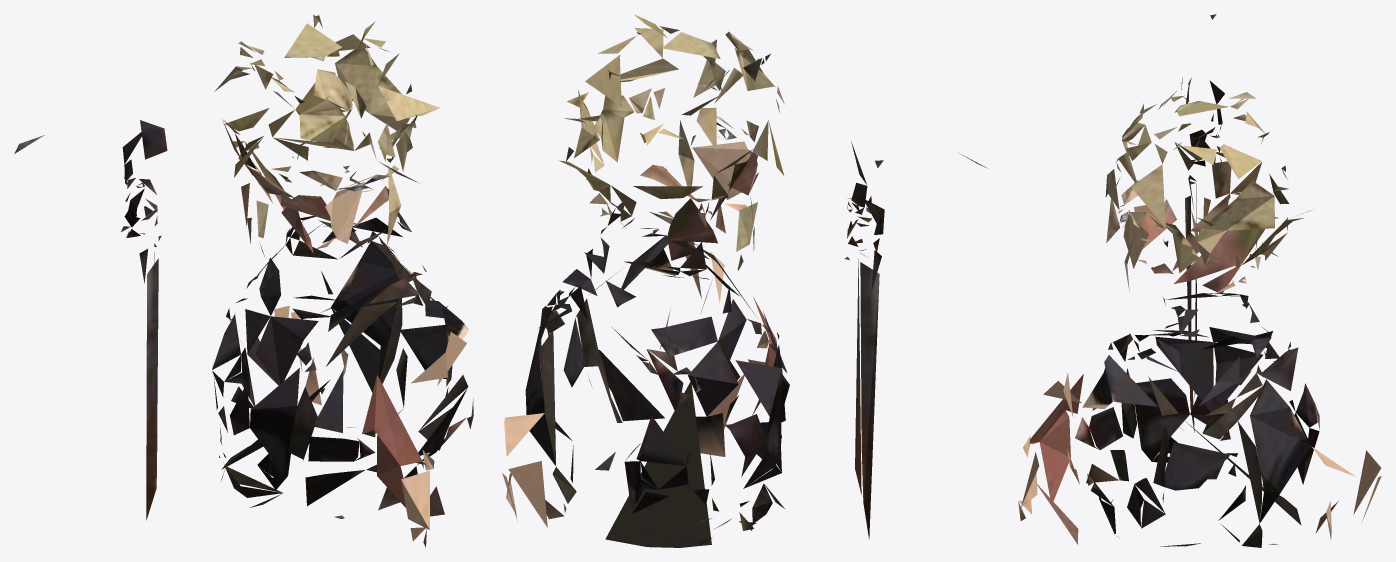
The model's file is crowbar.glb.
3 renders of one model, left to right at view 1: azimuth 30°, elevation 25°; view 2: azimuth 150°, elevation 25°; view 3: azimuth 270°, elevation 25°, orthographic. The views are drawn at different scales.
Parts seen in each view (by area): view 1: world; view 2: world; view 3: world.
Boxes of the visible parts, x1,y1,x2,y2 form: world: (14, 14, 473, 547); world: (502, 14, 987, 547); world: (1018, 14, 1381, 547).
Bounding box in the file's own units: 1.84 × 1.9 × 1.5.
Materials: 1 (1 with a texture image).
